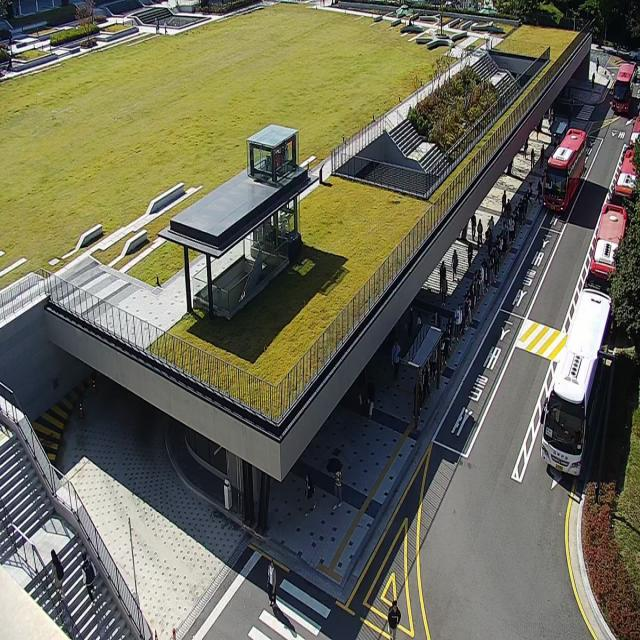queue: (416, 193, 528, 428)
